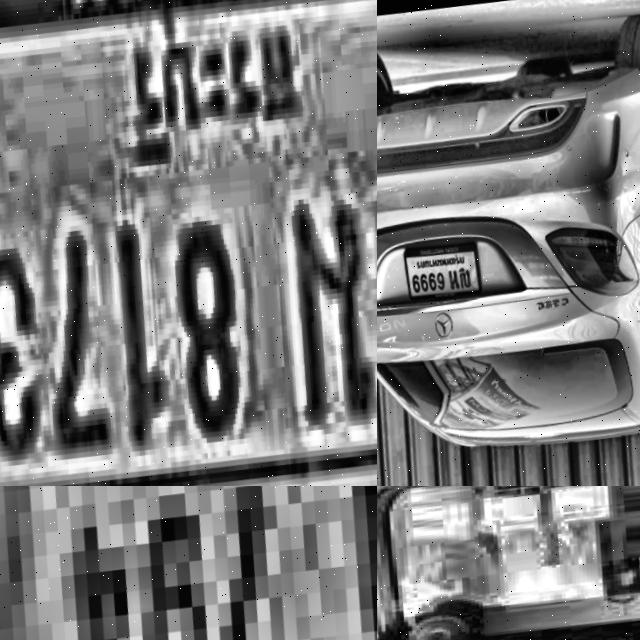license-plate: (0, 0, 377, 486), (0, 486, 377, 640), (403, 238, 491, 307)
